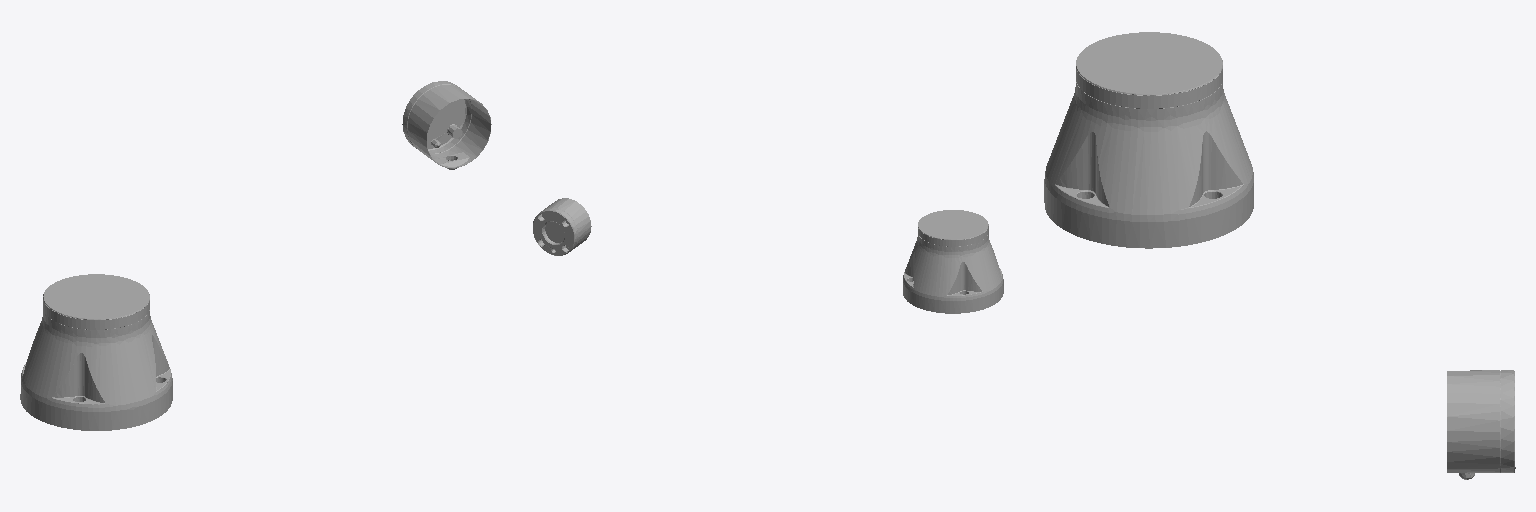
The robot description file, URDF, robot "ur3e_robot":
<?xml version="1.0" ?>
<!-- =================================================================================== -->
<!-- |    This document was autogenerated by xacro from /root/catkin_ws/src/universal_robot/ur_description/urdf/ur3e.xacro | -->
<!-- |    EDITING THIS FILE BY HAND IS NOT RECOMMENDED                                 | -->
<!-- =================================================================================== -->
<robot name="ur3e_robot">
  <!--
    Base UR robot series xacro macro.

    NOTE: this is NOT a URDF. It cannot directly be loaded by consumers
    expecting a flattened '.urdf' file. See the top-level '.xacro' for that
    (but note: that .xacro must still be processed by the xacro command).

    For use in '.launch' files: use one of the 'load_urX.launch' convenience
    launch files.

    This file models the base kinematic chain of a UR robot, which then gets
    parameterised by various configuration files to convert it into a UR3(e),
    UR5(e), UR10(e) or UR16e.

    NOTE: the default kinematic parameters (ie: link lengths, frame locations,
    offets, etc) do not correspond to any particular robot. They are defaults
    only. There WILL be non-zero offsets between the Forward Kinematics results
    in TF (ie: robot_state_publisher) and the values reported by the Teach
    Pendant.

    For accurate (and robot-specific) transforms, the 'kinematics_parameters_file'
    parameter MUST point to a .yaml file containing the appropriate values for
    the targetted robot.

    If using the UniversalRobots/Universal_Robots_ROS_Driver, follow the steps
    described in the readme of that repository to extract the kinematic
    calibration from the controller and generate the required .yaml file.

    Main author of the migration to yaml configs: [author].

    Contributors to previous versions (in no particular order):

     - [author]
     - [author]
     - [author]
     - [author]
     - [author]
     - [author]
     - [author]
     - [author]
     - [author]
     - [author]
     - [author]
     - [author]
     - [author]
     - [author]
     - [author]
     - [author]
     - [author]
  -->
  <!--
    NOTE: the macro defined in this file is NOT part of the public API of this
          package. Users CANNOT rely on this file being available, or stored in
          this location. Nor can they rely on the existence of the macro.
  -->
  <transmission name="shoulder_pan_trans">
    <type>transmission_interface/SimpleTransmission</type>
    <joint name="shoulder_pan_joint">
      <hardwareInterface>hardware_interface/PositionJointInterface</hardwareInterface>
    </joint>
    <actuator name="shoulder_pan_motor">
      <mechanicalReduction>1</mechanicalReduction>
    </actuator>
  </transmission>
  <transmission name="shoulder_lift_trans">
    <type>transmission_interface/SimpleTransmission</type>
    <joint name="shoulder_lift_joint">
      <hardwareInterface>hardware_interface/PositionJointInterface</hardwareInterface>
    </joint>
    <actuator name="shoulder_lift_motor">
      <mechanicalReduction>1</mechanicalReduction>
    </actuator>
  </transmission>
  <transmission name="elbow_trans">
    <type>transmission_interface/SimpleTransmission</type>
    <joint name="elbow_joint">
      <hardwareInterface>hardware_interface/PositionJointInterface</hardwareInterface>
    </joint>
    <actuator name="elbow_motor">
      <mechanicalReduction>1</mechanicalReduction>
    </actuator>
  </transmission>
  <transmission name="wrist_1_trans">
    <type>transmission_interface/SimpleTransmission</type>
    <joint name="wrist_1_joint">
      <hardwareInterface>hardware_interface/PositionJointInterface</hardwareInterface>
    </joint>
    <actuator name="wrist_1_motor">
      <mechanicalReduction>1</mechanicalReduction>
    </actuator>
  </transmission>
  <transmission name="wrist_2_trans">
    <type>transmission_interface/SimpleTransmission</type>
    <joint name="wrist_2_joint">
      <hardwareInterface>hardware_interface/PositionJointInterface</hardwareInterface>
    </joint>
    <actuator name="wrist_2_motor">
      <mechanicalReduction>1</mechanicalReduction>
    </actuator>
  </transmission>
  <transmission name="wrist_3_trans">
    <type>transmission_interface/SimpleTransmission</type>
    <joint name="wrist_3_joint">
      <hardwareInterface>hardware_interface/PositionJointInterface</hardwareInterface>
    </joint>
    <actuator name="wrist_3_motor">
      <mechanicalReduction>1</mechanicalReduction>
    </actuator>
  </transmission>
  <!-- links: main serial chain -->
  <link name="base_link"/>
  <link name="base_link_inertia">
    <visual>
      <origin rpy="0 0 3.141592653589793" xyz="0 0 0"/>
      <geometry>
        <mesh filename="package://ur_description/meshes/ur3e/visual/base.obj"/>
      </geometry>
      <material name="LightGrey">
        <color rgba="0.7 0.7 0.7 1.0"/>
      </material>
    </visual>
    <collision>
      <origin rpy="0 0 3.141592653589793" xyz="0 0 0"/>
      <geometry>
        <mesh filename="package://ur_description/meshes/ur3e/collision/base.stl"/>
      </geometry>
    </collision>
    <inertial>
      <mass value="2.0"/>
      <origin rpy="0 0 0" xyz="0 0 0"/>
      <inertia ixx="0.0030531654454" ixy="0.0" ixz="0.0" iyy="0.0030531654454" iyz="0.0" izz="0.005625"/>
    </inertial>
  </link>
  <link name="shoulder_link">
    <visual>
      <origin rpy="0 0 3.141592653589793" xyz="0 0 0"/>
      <geometry>
        <mesh filename="package://ur_description/meshes/ur3e/visual/shoulder.obj"/>
      </geometry>
      <material name="LightGrey">
        <color rgba="0.7 0.7 0.7 1.0"/>
      </material>
    </visual>
    <collision>
      <origin rpy="0 0 3.141592653589793" xyz="0 0 0"/>
      <geometry>
        <mesh filename="package://ur_description/meshes/ur3e/collision/shoulder.stl"/>
      </geometry>
    </collision>
    <inertial>
      <mass value="2.0"/>
      <origin rpy="0 0 0" xyz="0 0 0"/>
      <inertia ixx="0.008093163429399999" ixy="0.0" ixz="0.0" iyy="0.008093163429399999" iyz="0.0" izz="0.005625"/>
    </inertial>
  </link>
  <link name="upper_arm_link">
    <visual>
      <origin rpy="1.5707963267948966 0 -1.5707963267948966" xyz="0 0 0.12"/>
      <geometry>
        <mesh filename="package://ur_description/meshes/ur3e/visual/upperarm.obj"/>
      </geometry>
      <material name="LightGrey">
        <color rgba="0.7 0.7 0.7 1.0"/>
      </material>
    </visual>
    <collision>
      <origin rpy="1.5707963267948966 0 -1.5707963267948966" xyz="0 0 0.12"/>
      <geometry>
        <mesh filename="package://ur_description/meshes/ur3e/collision/upperarm.stl"/>
      </geometry>
    </collision>
    <inertial>
      <mass value="3.42"/>
      <origin rpy="0 1.5707963267948966 0" xyz="-0.121825 0.0 0.12"/>
      <inertia ixx="0.021728483221103233" ixy="0.0" ixz="0.0" iyy="0.021728483221103233" iyz="0.0" izz="0.00961875"/>
    </inertial>
  </link>
  <link name="forearm_link">
    <visual>
      <origin rpy="1.5707963267948966 0 -1.5707963267948966" xyz="0 0 0.027"/>
      <geometry>
        <mesh filename="package://ur_description/meshes/ur3e/visual/forearm.obj"/>
      </geometry>
      <material name="LightGrey">
        <color rgba="0.7 0.7 0.7 1.0"/>
      </material>
    </visual>
    <collision>
      <origin rpy="1.5707963267948966 0 -1.5707963267948966" xyz="0 0 0.027"/>
      <geometry>
        <mesh filename="package://ur_description/meshes/ur3e/collision/forearm.stl"/>
      </geometry>
    </collision>
    <inertial>
      <mass value="1.26"/>
      <origin rpy="0 1.5707963267948966 0" xyz="-0.1066 0.0 0.027"/>
      <inertia ixx="0.0065445675821719194" ixy="0.0" ixz="0.0" iyy="0.0065445675821719194" iyz="0.0" izz="0.00354375"/>
    </inertial>
  </link>
  <link name="wrist_1_link">
    <visual>
      <!-- TODO: Move this to a parameter -->
      <origin rpy="1.5707963267948966 0 0" xyz="0 0 -0.104"/>
      <geometry>
        <mesh filename="package://ur_description/meshes/ur3e/visual/wrist1.obj"/>
      </geometry>
      <material name="LightGrey">
        <color rgba="0.7 0.7 0.7 1.0"/>
      </material>
    </visual>
    <collision>
      <origin rpy="1.5707963267948966 0 0" xyz="0 0 -0.104"/>
      <geometry>
        <mesh filename="package://ur_description/meshes/ur3e/collision/wrist1.stl"/>
      </geometry>
    </collision>
    <inertial>
      <mass value="0.8"/>
      <origin rpy="0 0 0" xyz="0 0 0"/>
      <inertia ixx="0.002084999166" ixy="0.0" ixz="0.0" iyy="0.002084999166" iyz="0.0" izz="0.00225"/>
    </inertial>
  </link>
  <link name="wrist_2_link">
    <visual>
      <origin rpy="0 0 0" xyz="0 0 -0.08535"/>
      <geometry>
        <mesh filename="package://ur_description/meshes/ur3e/visual/wrist2.obj"/>
      </geometry>
      <material name="LightGrey">
        <color rgba="0.7 0.7 0.7 1.0"/>
      </material>
    </visual>
    <collision>
      <origin rpy="0 0 0" xyz="0 0 -0.08535"/>
      <geometry>
        <mesh filename="package://ur_description/meshes/ur3e/collision/wrist2.stl"/>
      </geometry>
    </collision>
    <inertial>
      <mass value="0.8"/>
      <origin rpy="0 0 0" xyz="0 0 0"/>
      <inertia ixx="0.002084999166" ixy="0.0" ixz="0.0" iyy="0.002084999166" iyz="0.0" izz="0.00225"/>
    </inertial>
  </link>
  <link name="wrist_3_link">
    <visual>
      <origin rpy="1.5707963267948966 0 0" xyz="0 0 -0.0921"/>
      <geometry>
        <mesh filename="package://ur_description/meshes/ur3e/visual/wrist3.obj"/>
      </geometry>
      <material name="LightGrey">
        <color rgba="0.7 0.7 0.7 1.0"/>
      </material>
    </visual>
    <collision>
      <origin rpy="1.5707963267948966 0 0" xyz="0 0 -0.0921"/>
      <geometry>
        <mesh filename="package://ur_description/meshes/ur3e/collision/wrist3.stl"/>
      </geometry>
    </collision>
    <inertial>
      <mass value="0.35"/>
      <origin rpy="0 0 0" xyz="0.0 0.0 -0.02"/>
      <inertia ixx="0.00013626661215999998" ixy="0.0" ixz="0.0" iyy="0.00013626661215999998" iyz="0.0" izz="0.0001792"/>
    </inertial>
  </link>
  <!-- joints: main serial chain -->
  <joint name="base_link-base_link_inertia" type="fixed">
    <parent link="base_link"/>
    <child link="base_link_inertia"/>
    <!-- 'base_link' is REP-103 aligned (so X+ forward), while the internal
           frames of the robot/controller have X+ pointing backwards.
           Use the joint between 'base_link' and 'base_link_inertia' (a dummy
           link/frame) to introduce the necessary rotation over Z (of pi rad).
      -->
    <origin rpy="0 0 3.141592653589793" xyz="0 0 0"/>
  </joint>
  <joint name="shoulder_pan_joint" type="revolute">
    <parent link="base_link_inertia"/>
    <child link="shoulder_link"/>
    <origin rpy="0 0 0" xyz="0 0 0.15185"/>
    <axis xyz="0 0 1"/>
    <limit effort="56.0" lower="-6.283185307179586" upper="6.283185307179586" velocity="3.141592653589793"/>
    <dynamics damping="0" friction="0"/>
  </joint>
  <joint name="shoulder_lift_joint" type="revolute">
    <parent link="shoulder_link"/>
    <child link="upper_arm_link"/>
    <origin rpy="1.570796327 0 0" xyz="0 0 0"/>
    <axis xyz="0 0 1"/>
    <limit effort="56.0" lower="-6.283185307179586" upper="6.283185307179586" velocity="3.141592653589793"/>
    <dynamics damping="0" friction="0"/>
  </joint>
  <joint name="elbow_joint" type="revolute">
    <parent link="upper_arm_link"/>
    <child link="forearm_link"/>
    <origin rpy="0 0 0" xyz="-0.24355 0 0"/>
    <axis xyz="0 0 1"/>
    <limit effort="28.0" lower="-3.141592653589793" upper="3.141592653589793" velocity="3.141592653589793"/>
    <dynamics damping="0" friction="0"/>
  </joint>
  <joint name="wrist_1_joint" type="revolute">
    <parent link="forearm_link"/>
    <child link="wrist_1_link"/>
    <origin rpy="0 0 0" xyz="-0.2132 0 0.13105"/>
    <axis xyz="0 0 1"/>
    <limit effort="12.0" lower="-6.283185307179586" upper="6.283185307179586" velocity="6.283185307179586"/>
    <dynamics damping="0" friction="0"/>
  </joint>
  <joint name="wrist_2_joint" type="revolute">
    <parent link="wrist_1_link"/>
    <child link="wrist_2_link"/>
    <origin rpy="1.570796327 0 0" xyz="0 -0.08535 -1.750557762378351e-11"/>
    <axis xyz="0 0 1"/>
    <limit effort="12.0" lower="-6.283185307179586" upper="6.283185307179586" velocity="6.283185307179586"/>
    <dynamics damping="0" friction="0"/>
  </joint>
  <joint name="wrist_3_joint" type="revolute">
    <parent link="wrist_2_link"/>
    <child link="wrist_3_link"/>
    <origin rpy="1.570796326589793 3.141592653589793 3.141592653589793" xyz="0 0.0921 -1.8890025766262e-11"/>
    <axis xyz="0 0 1"/>
    <limit effort="12.0" lower="-6.283185307179586" upper="6.283185307179586" velocity="6.283185307179586"/>
    <dynamics damping="0" friction="0"/>
  </joint>
  <!-- ROS-Industrial 'base' frame: base_link to UR 'Base' Coordinates transform -->
  <link name="base"/>
  <joint name="base_link-base_fixed_joint" type="fixed">
    <!-- Note the rotation over Z of pi radians: as base_link is REP-103
           aligned (ie: has X+ forward, Y+ left and Z+ up), this is needed
           to correctly align 'base' with the 'Base' coordinate system of
           the UR controller.
      -->
    <origin rpy="0 0 3.141592653589793" xyz="0 0 0"/>
    <parent link="base_link"/>
    <child link="base"/>
  </joint>
  <!-- ROS-Industrial 'flange' frame: attachment point for EEF models -->
  <link name="flange"/>
  <joint name="wrist_3-flange" type="fixed">
    <parent link="wrist_3_link"/>
    <child link="flange"/>
    <origin rpy="0 -1.5707963267948966 -1.5707963267948966" xyz="0 0 0"/>
  </joint>
  <!-- ROS-Industrial 'tool0' frame: all-zeros tool frame -->
  <link name="tool0"/>
  <joint name="flange-tool0" type="fixed">
    <!-- default toolframe: X+ left, Y+ up, Z+ front -->
    <origin rpy="1.5707963267948966 0 1.5707963267948966" xyz="0 0 0"/>
    <parent link="flange"/>
    <child link="tool0"/>
  </joint>
</robot>

--- Render facts (derived) ---
The picture shows the robot from 3 angles, left to right: view 1: azimuth 30°, elevation 25°; view 2: azimuth 150°, elevation 25°; view 3: azimuth 270°, elevation 25°; orthographic projection.
Model ur3e_robot with 11 links and 10 joints (6 revolute, 4 fixed), rooted at base_link, posed all joints at 0.
Visible links, largest first — view 1: base_link_inertia, wrist_3_link; view 2: base_link_inertia, wrist_3_link; view 3: base_link_inertia, wrist_3_link.
Link boxes in pixels (box(x1,y1,x2,y2)): base_link_inertia: box(20, 274, 172, 430); wrist_3_link: box(402, 81, 491, 169); base_link_inertia: box(903, 210, 1003, 313); wrist_3_link: box(533, 198, 591, 255); base_link_inertia: box(1044, 32, 1253, 248); wrist_3_link: box(1447, 370, 1515, 479).
Bounding box of the posed robot: 0.5523 × 0.2873 × 0.0982 m (x, y, z).
2 mesh visuals loaded from 7 distinct referenced files (2 OBJ); not drawn: 5 (reference not matched to a file when rendering).